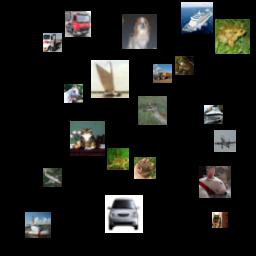airplane: (214, 130, 236, 152), (43, 168, 62, 187)
automobile: (105, 195, 143, 233)
cat: (70, 121, 105, 156), (212, 212, 228, 228)
deer: (138, 96, 167, 125)
dog: (122, 14, 157, 49), (199, 166, 231, 198)
frog: (215, 19, 250, 54), (134, 157, 156, 179), (107, 148, 129, 170), (175, 56, 194, 75)
ship: (91, 60, 129, 98), (181, 2, 213, 34), (25, 212, 51, 238), (204, 105, 223, 124)
truck: (65, 11, 91, 37), (43, 33, 62, 52), (153, 64, 172, 83)
